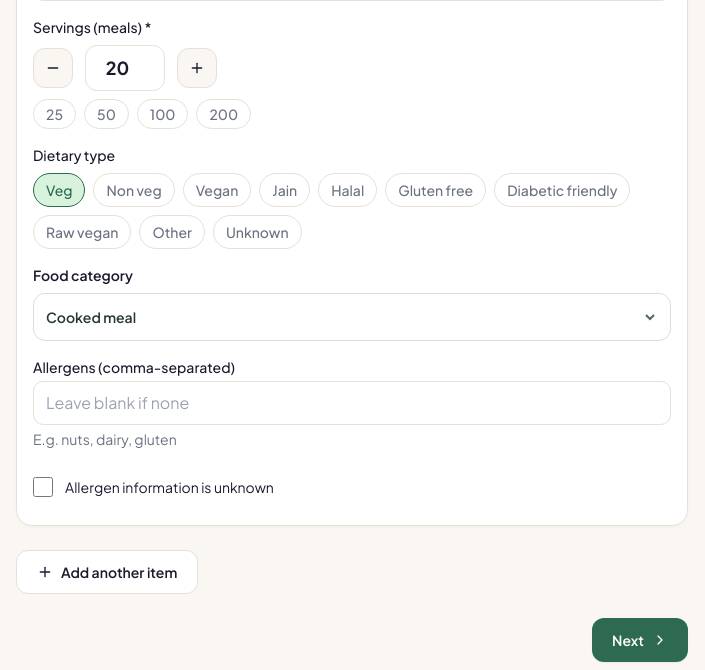
Test: Posting logistics › omits the two logistics checks and ignores their values from old drafts
Later steps or results of the test are not shown.
(page scrolled)
Click the button "Next" at (640,640), box [592,618,688,662]
(page scrolled)
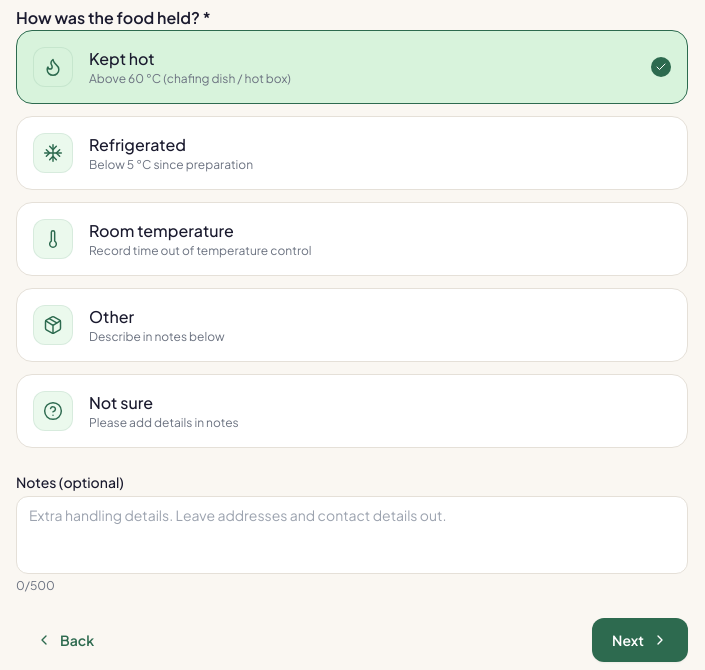
Now the text box labelled "Notes (optional)" is shown, box [16,496,688,574]
